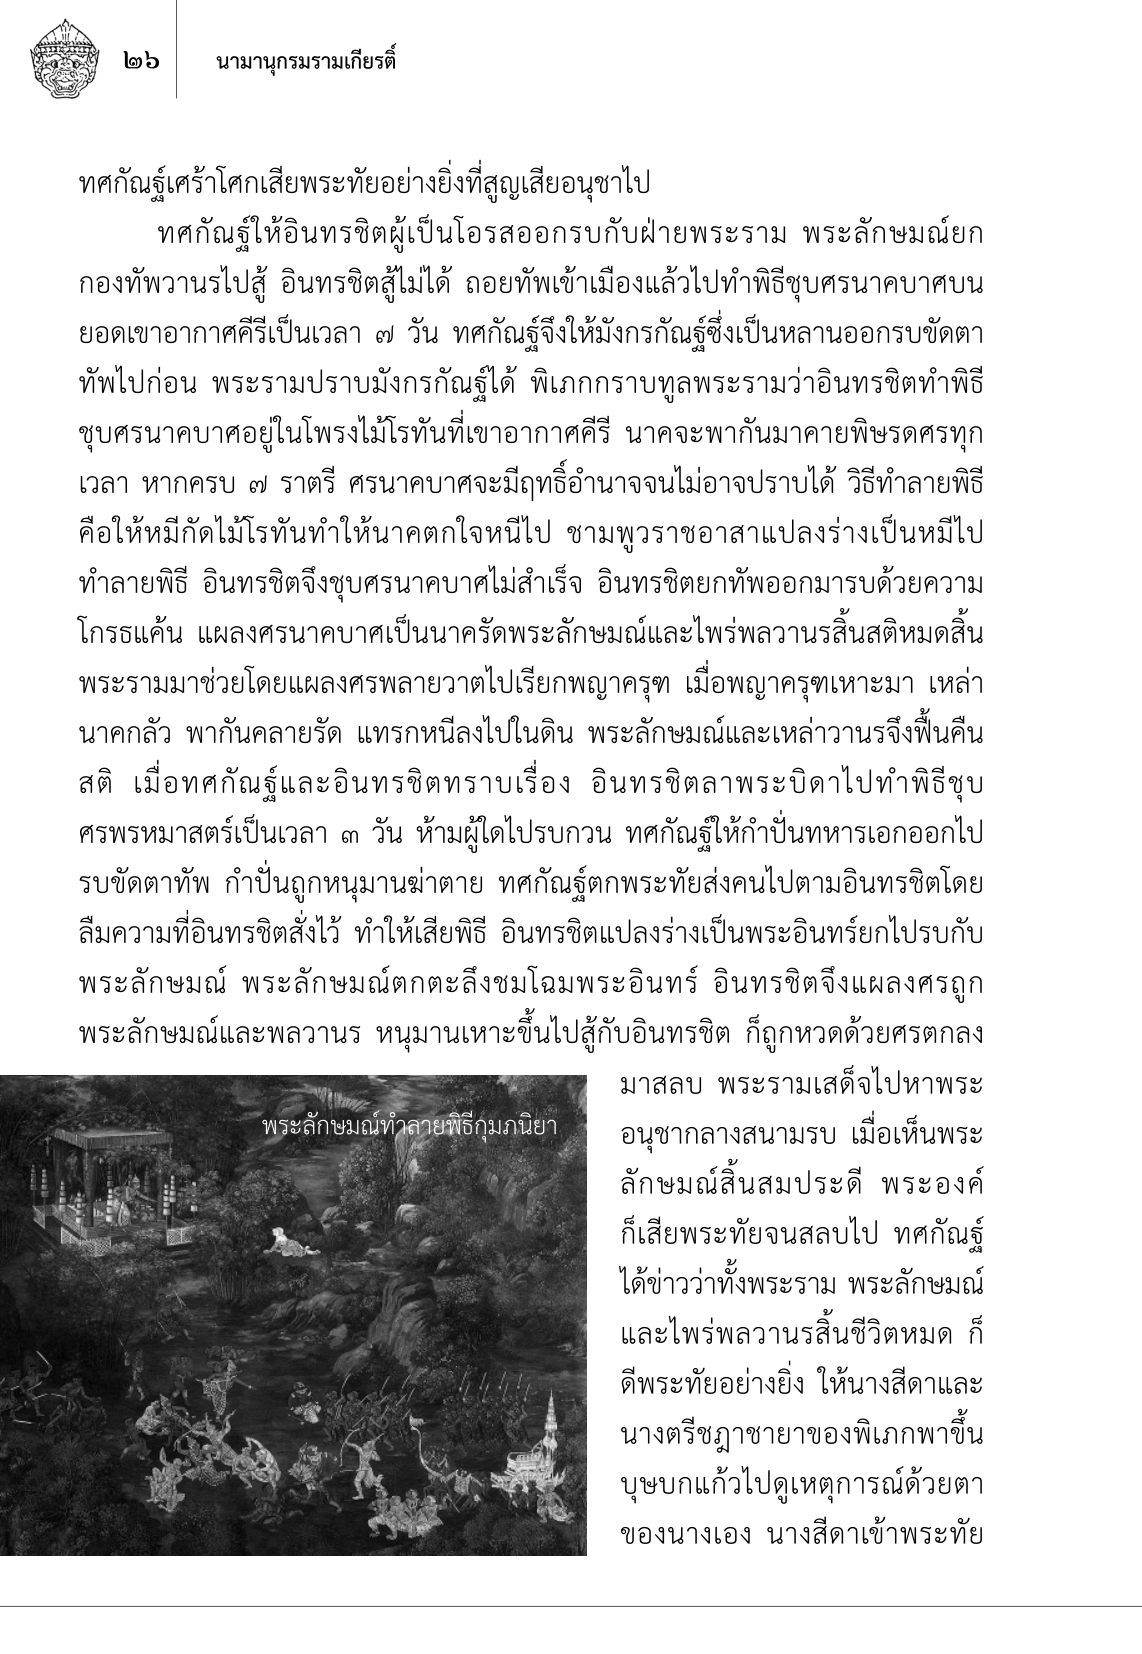thai: (74, 610, 987, 1060), (73, 209, 987, 607), (617, 1062, 992, 1567), (73, 155, 653, 207), (214, 39, 401, 88), (118, 36, 162, 79)
